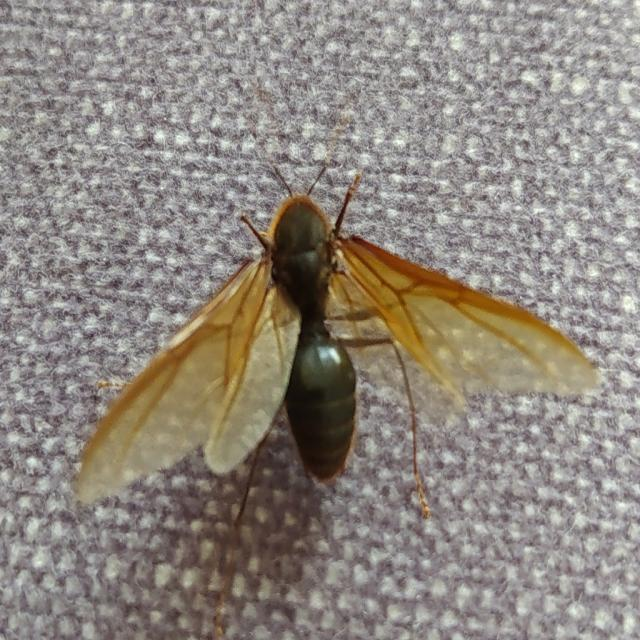Alive-Male-Alate: (73, 116, 600, 640)
